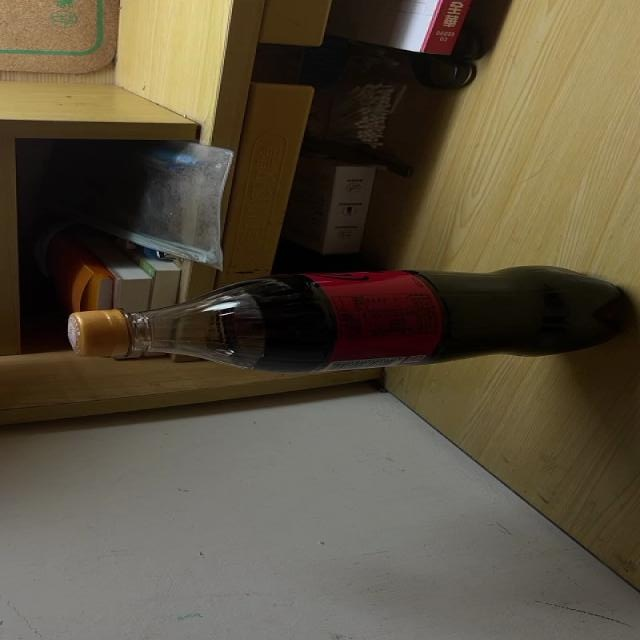Coca-Cola: (66, 263, 631, 374)
